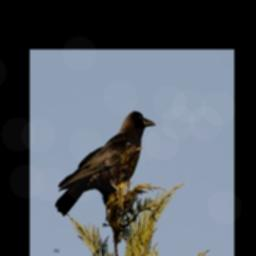Crow: (54, 107, 158, 221)
